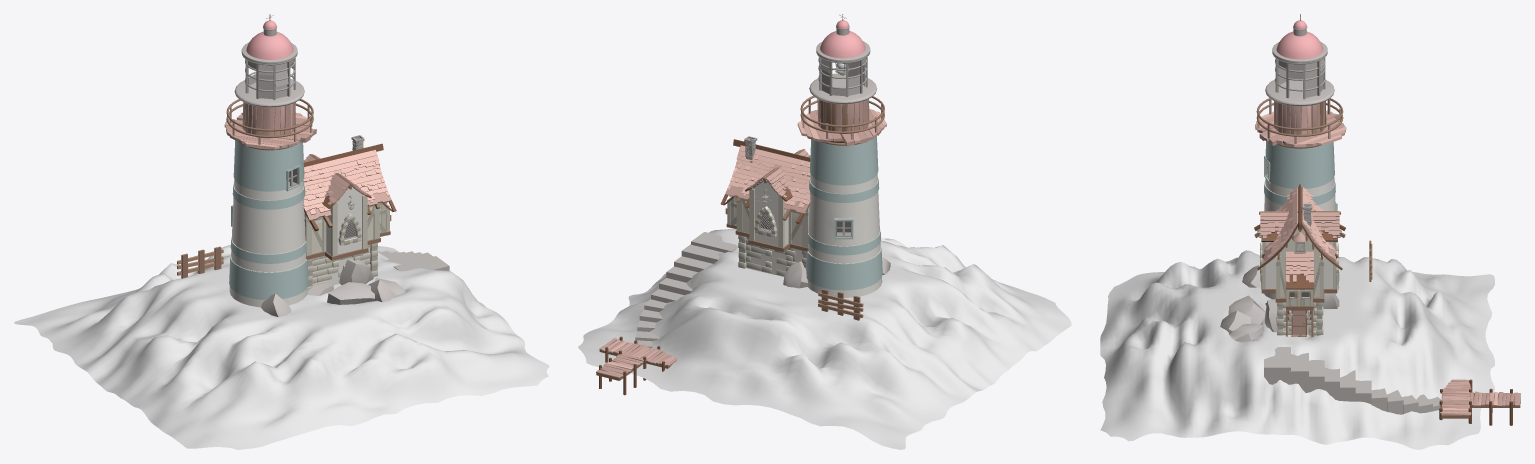
Rendered from lighthouse-light.gltf.
3 renders of one model, left to right at view 1: azimuth 30°, elevation 25°; view 2: azimuth 150°, elevation 25°; view 3: azimuth 270°, elevation 25°, orthographic. The views are drawn at different scales.
Visible parts, largest first — view 1: Landscape, Cylinder_19, Cylinder_4, Sphere, Cylinder_6, Cube_259_2, Cube_4_5, Cube_260_2, Cube_303_4; view 2: Landscape, Cylinder_19, Cylinder_4, Cylinder_6, Sphere, Cube_64_2, Cube_6_5, Cube_303_4, Cube_296_2, Cube_304_4; view 3: Landscape, Cylinder_19, Cylinder_6, Sphere, Cylinder_4, Cube_303_4, Cube_304_4, Cube_259_2, Cube_305_2, Cube_293_2, Cube_5_5, Cube_307_2 (+2 smaller).
Boxes of the visible parts, x1=… form: Landscape: x1=14, y1=244, x2=549, y2=449; Cylinder_19: x1=229, y1=140, x2=308, y2=299; Cylinder_4: x1=229, y1=179, x2=307, y2=307; Sphere: x1=246, y1=31, x2=293, y2=59; Cylinder_6: x1=234, y1=78, x2=304, y2=107; Cube_259_2: x1=327, y1=282, x2=374, y2=304; Cube_4_5: x1=326, y1=203, x2=361, y2=254; Cube_260_2: x1=339, y1=259, x2=373, y2=284; Cube_303_4: x1=393, y1=256, x2=449, y2=271; Landscape: x1=578, y1=228, x2=1071, y2=449; Cylinder_19: x1=806, y1=136, x2=882, y2=290; Cylinder_4: x1=807, y1=173, x2=882, y2=297; Cylinder_6: x1=809, y1=73, x2=877, y2=104; Sphere: x1=820, y1=31, x2=865, y2=58; Cube_64_2: x1=755, y1=196, x2=788, y2=245; Cube_6_5: x1=746, y1=237, x2=802, y2=276; Cube_303_4: x1=691, y1=232, x2=738, y2=252; Cube_296_2: x1=783, y1=261, x2=807, y2=288; Cube_304_4: x1=681, y1=244, x2=723, y2=263; Landscape: x1=1100, y1=250, x2=1494, y2=449; Cylinder_19: x1=1260, y1=141, x2=1339, y2=284; Cylinder_6: x1=1265, y1=79, x2=1334, y2=106; Sphere: x1=1276, y1=31, x2=1323, y2=59; Cylinder_4: x1=1261, y1=177, x2=1339, y2=299; Cube_303_4: x1=1264, y1=347, x2=1290, y2=384; Cube_304_4: x1=1289, y1=353, x2=1308, y2=392; Cube_259_2: x1=1228, y1=295, x2=1265, y2=324; Cube_305_2: x1=1309, y1=360, x2=1324, y2=392; Cube_293_2: x1=1229, y1=323, x2=1264, y2=342; Cube_5_5: x1=1277, y1=227, x2=1320, y2=273; Cube_307_2: x1=1339, y1=370, x2=1355, y2=401.
Bounding box in the file's own units: 80.14 × 71.56 × 79.89.
